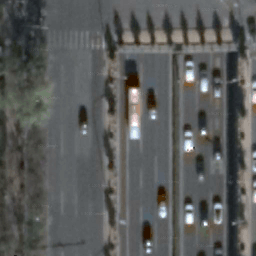car: (127, 87, 142, 140), (184, 203, 194, 227), (184, 130, 194, 154), (213, 203, 223, 225), (158, 195, 167, 219), (185, 61, 194, 84), (200, 70, 209, 93), (213, 76, 222, 98), (149, 102, 157, 121), (80, 120, 89, 136), (145, 238, 153, 254), (252, 148, 256, 174), (252, 180, 256, 204), (252, 80, 256, 103), (214, 249, 223, 255)
